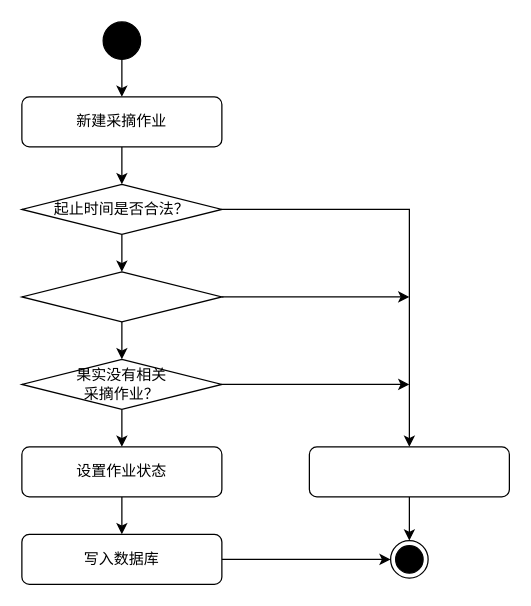
This 531x606 diagram has some shape labels left out. The centre of each missing label's shape, as x and y in pixels:
"抛出异常" belongs at [408,471].
"果实是否处在 种植状态？" belongs at [121,296].
